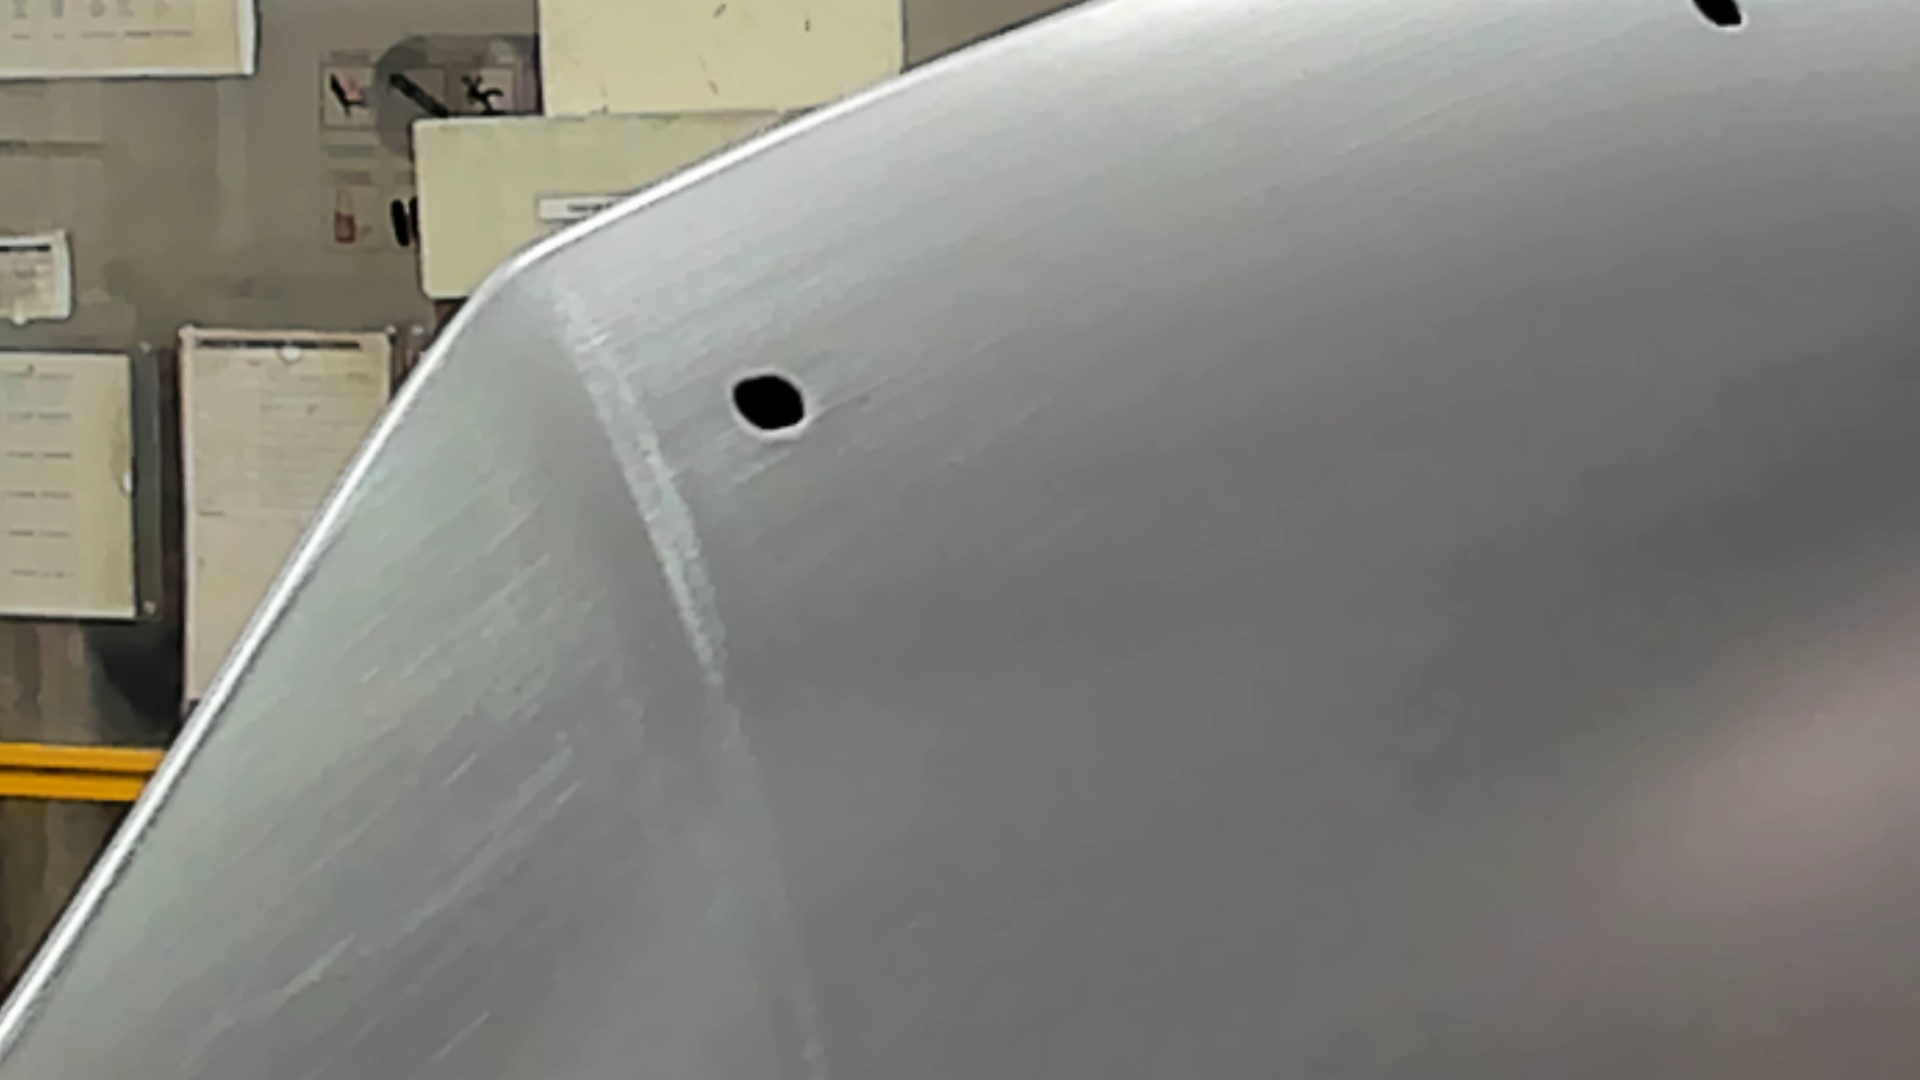amorfo: (723, 365, 819, 440), (1687, 1, 1756, 40)
